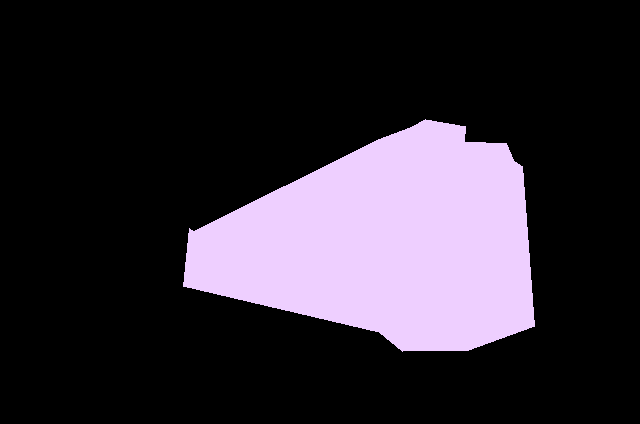Train: (183, 119, 534, 352)
